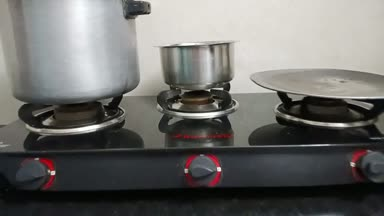flame_gas_off: (288, 97, 383, 183), (15, 101, 102, 192), (167, 83, 230, 187)
